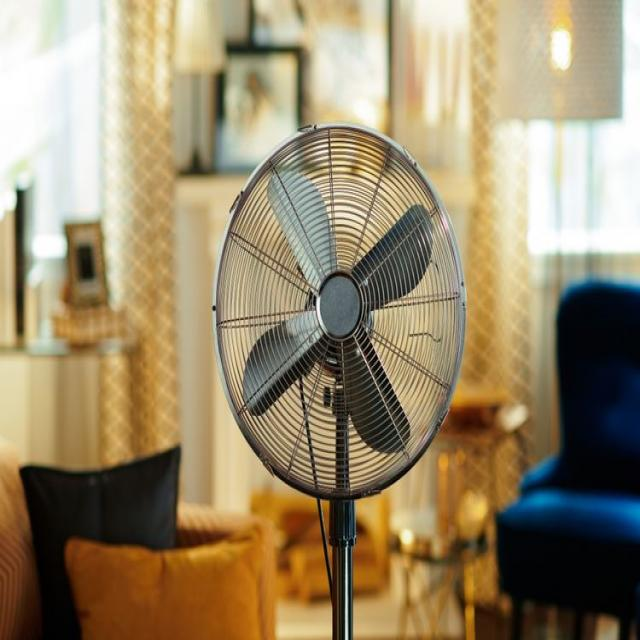fan: (210, 117, 470, 638)
